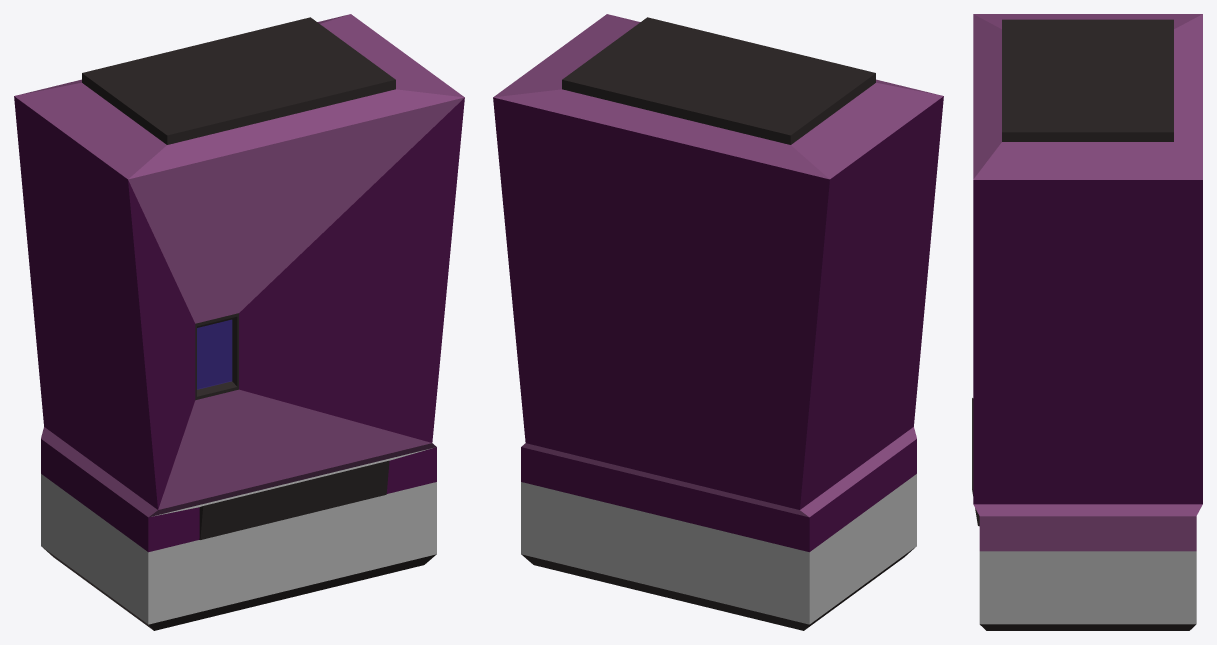
The model's file is Purple_VendingMachine.fbx.
The picture shows the model from 3 angles, left to right: view 1: azimuth 30°, elevation 25°; view 2: azimuth 150°, elevation 25°; view 3: azimuth 270°, elevation 25°; orthographic projection.
Parts seen in each view (by area): view 1: pCube1; view 2: pCube1; view 3: pCube1.
Part boxes in pixels (bbox=[...]): pCube1: bbox=[14, 14, 464, 630]; pCube1: bbox=[493, 14, 943, 630]; pCube1: bbox=[972, 14, 1202, 630].
Bounding box in the file's own units: 14.07 × 19.35 × 8.29.
